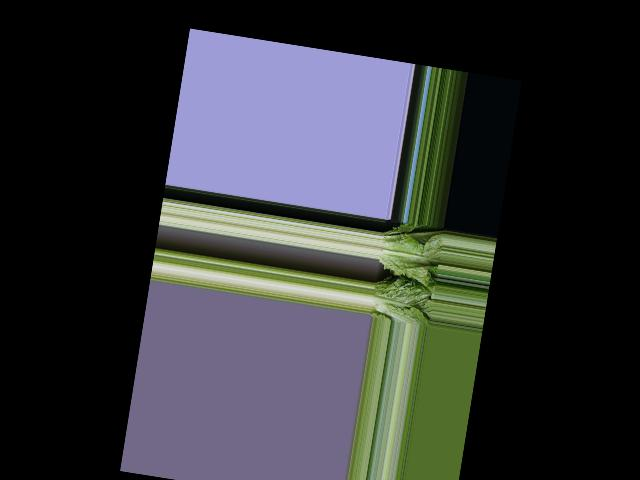lettuce: (369, 275, 432, 323)
